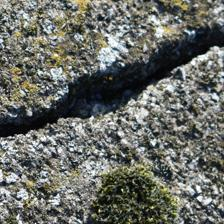Crack: (4, 11, 220, 133)
